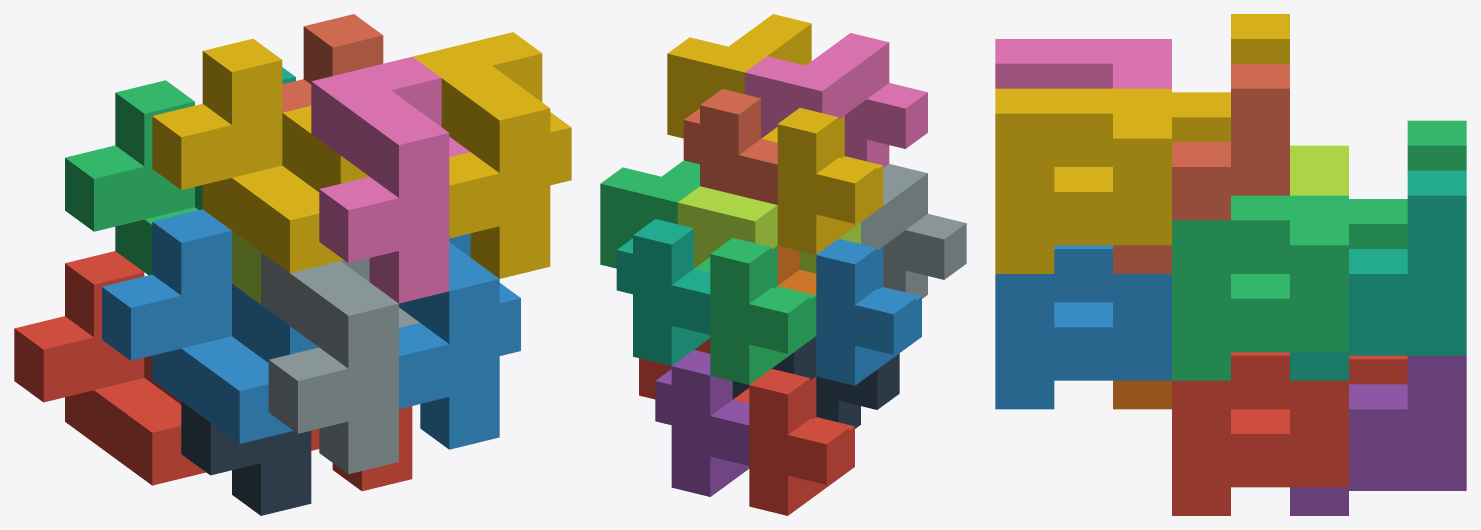
The model's file is tiling.obj.
3 views of the same model, side by side, from view 1: azimuth 30°, elevation 25°; view 2: azimuth 150°, elevation 25°; view 3: azimuth 270°, elevation 25° (orthographic). The views are drawn at different scales.
Parts seen in each view (by area): view 1: copy_2_domain_4, copy_1_domain_4, copy_1_domain_2, copy_2_domain_8, copy_2_domain_2, copy_1_domain_1, copy_2_domain_6, copy_1_domain_3, copy_2_domain_1, copy_1_domain_8, copy_2_domain_5, copy_2_domain_3; view 2: copy_2_domain_4, copy_1_domain_3, copy_1_domain_4, copy_1_domain_1, copy_1_domain_2, copy_1_domain_7, copy_1_domain_5, copy_2_domain_2, copy_1_domain_8, copy_2_domain_8, copy_2_domain_7, copy_2_domain_3 (+3 smaller); view 3: copy_2_domain_8, copy_2_domain_7, copy_2_domain_5, copy_2_domain_6, copy_1_domain_7, copy_1_domain_5, copy_1_domain_8, copy_2_domain_4, copy_1_domain_3, copy_1_domain_4, copy_2_domain_3, copy_1_domain_1 (+1 smaller).
Boxes of the visible parts, <box> form: copy_2_domain_4: <box>311,56,469,303</box>; copy_1_domain_4: <box>152,38,369,273</box>; copy_1_domain_2: <box>102,209,318,443</box>; copy_2_domain_8: <box>413,32,571,278</box>; copy_2_domain_2: <box>261,252,419,474</box>; copy_1_domain_1: <box>14,251,205,485</box>; copy_2_domain_6: <box>399,233,520,449</box>; copy_1_domain_3: <box>65,80,202,275</box>; copy_2_domain_1: <box>181,401,311,515</box>; copy_1_domain_8: <box>282,14,383,112</box>; copy_2_domain_5: <box>311,406,412,491</box>; copy_2_domain_3: <box>232,231,260,304</box>; copy_2_domain_4: <box>744,33,927,167</box>; copy_1_domain_3: <box>694,238,816,384</box>; copy_1_domain_4: <box>761,108,883,254</box>; copy_1_domain_1: <box>733,368,854,515</box>; copy_1_domain_2: <box>816,238,921,385</box>; copy_1_domain_7: <box>616,219,710,365</box>; copy_1_domain_5: <box>655,350,749,496</box>; copy_2_domain_2: <box>861,164,966,298</box>; copy_1_domain_8: <box>683,89,777,204</box>; copy_2_domain_8: <box>667,14,811,138</box>; copy_2_domain_7: <box>600,160,699,268</box>; copy_2_domain_3: <box>677,186,860,273</box>; copy_2_domain_8: <box>995,88,1171,273</box>; copy_2_domain_7: <box>1172,195,1348,380</box>; copy_2_domain_5: <box>1172,352,1348,515</box>; copy_2_domain_6: <box>995,245,1171,409</box>; copy_1_domain_7: <box>1290,170,1466,380</box>; copy_1_domain_5: <box>1290,355,1466,515</box>; copy_1_domain_8: <box>1113,63,1289,273</box>; copy_2_domain_4: <box>995,39,1171,88</box>; copy_1_domain_3: <box>1349,120,1466,248</box>; copy_1_domain_4: <box>1172,14,1289,141</box>; copy_2_domain_3: <box>1290,145,1348,195</box>; copy_1_domain_1: <box>1349,355,1407,384</box>.
Size of the model in its own units: 7 by 8 by 8.
